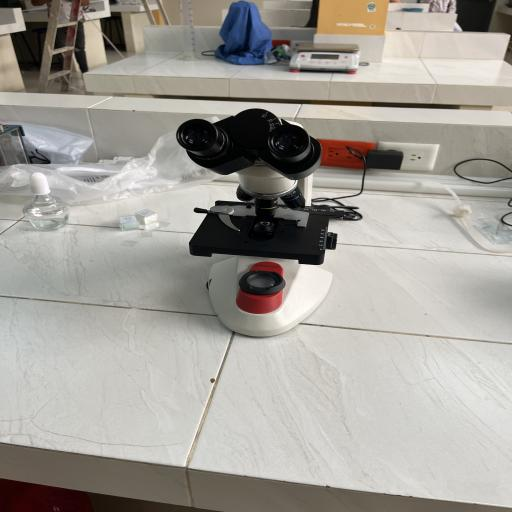Microscopio_Binocular: (156, 96, 367, 350)
